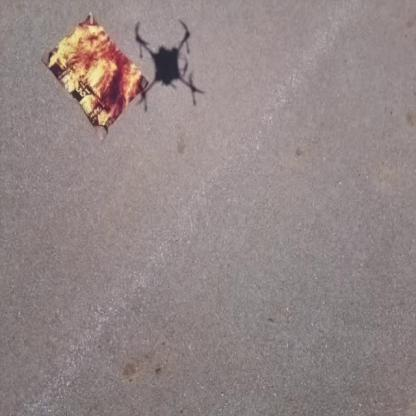fire-poster: (41, 12, 149, 142)
